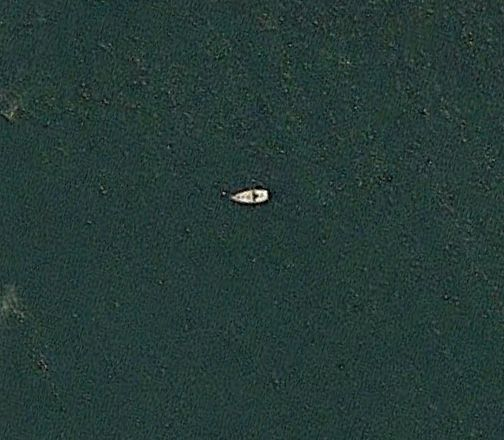boat: (229, 186, 272, 207)
